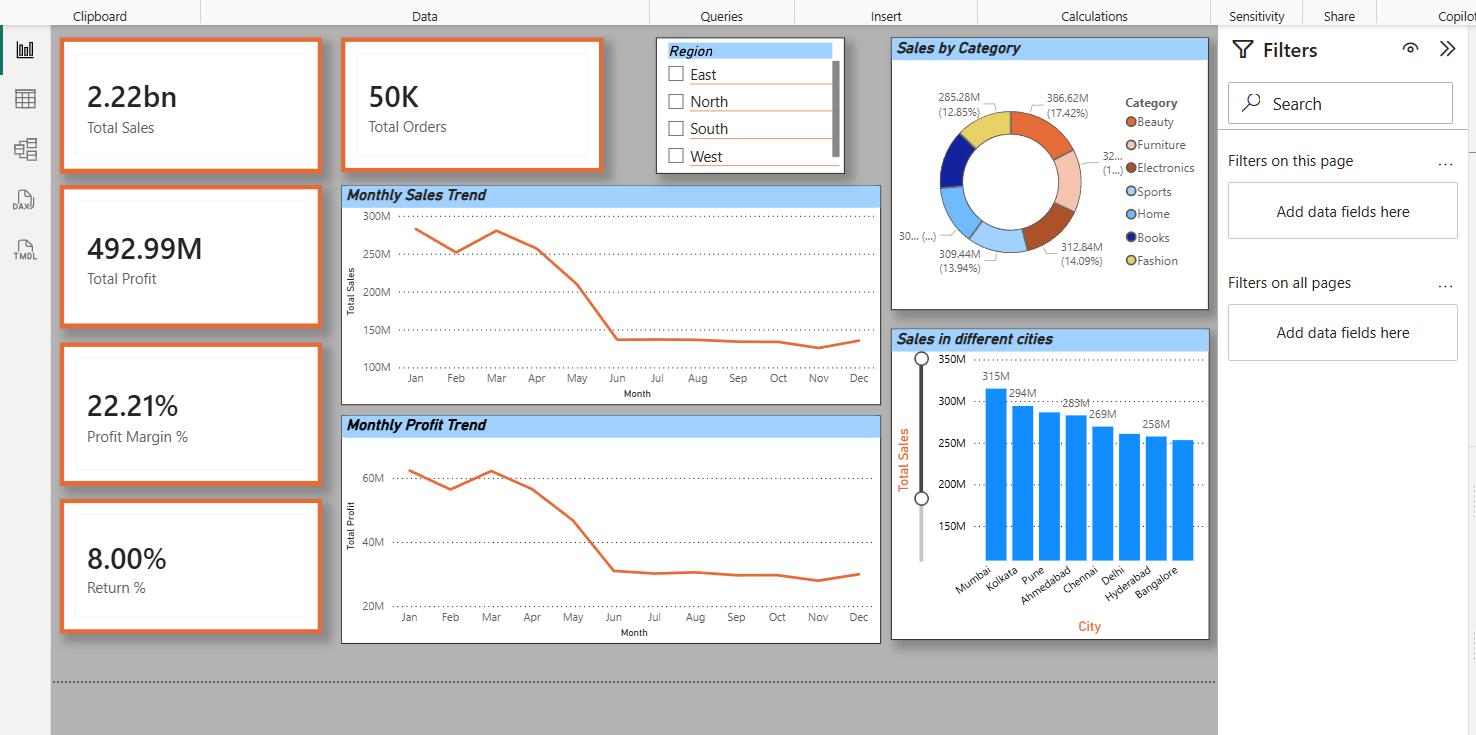

The dashboard page shown, as its layout file describes it:
{"tool":"powerbi","page":{"name":"EXECUTIVE SUMMARY","canvas":[1280,720],"ordinal":0},"visuals":[{"type":"cardVisual","fields":{"Data":["CUSTOMER.Total Sales"]},"box":[9.6,13.7,288.2,149.6],"z":0},{"type":"cardVisual","fields":{"Data":["CUSTOMER.Total Profit"]},"box":[9.6,175.6,288.2,157.8],"z":1000},{"type":"cardVisual","fields":{"Data":["CUSTOMER.Profit Margin %"]},"box":[9.6,348.5,288.2,157.8],"z":2000},{"type":"cardVisual","fields":{"Data":["CUSTOMER.Total Orders"]},"box":[318.4,13.7,288.2,148.2],"z":3000},{"type":"cardVisual","fields":{"Data":["CUSTOMER.Return %"]},"box":[9.6,520.1,288.2,148.2],"z":4000},{"type":"lineChart","title":"Monthly Sales Trend","fields":{"Y":["CUSTOMER.Total Sales"],"Category":["Date Table.Month"]},"box":[318.4,175.6,592.8,241.5],"z":5000},{"type":"lineChart","title":"Monthly Profit Trend","fields":{"Y":["CUSTOMER.Total Profit"],"Category":["Date Table.Month"]},"box":[318.4,428.1,592.8,251.1],"z":6000},{"type":"donutChart","title":"Sales by Category","fields":{"Category":["PRODUCT.Category"],"Y":["CUSTOMER.Total Sales"]},"box":[922.1,13.7,348.5,299.1],"z":7000},{"type":"columnChart","title":"Sales in different cities","fields":{"Category":["CUSTOMER.City"],"Y":["CUSTOMER.Total Sales"]},"box":[922.1,333.4,349.9,341.7],"z":8000},{"type":"slicer","fields":{"Values":["SALES.Region"]},"box":[664.2,13.7,207.2,149.6],"z":9000}]}

Visuals, with their boxes on the page's 1280x720 design canvas (x1, y1, x2, y2). These are canvas units, not pixel positions in the 1476x735 screenshot, which may show the page scaled, cropped or inside an application window:
cardVisual - CUSTOMER.Total Sales: rect(10, 14, 298, 163)
cardVisual - CUSTOMER.Total Profit: rect(10, 176, 298, 333)
cardVisual - CUSTOMER.Profit Margin %: rect(10, 348, 298, 506)
cardVisual - CUSTOMER.Total Orders: rect(318, 14, 607, 162)
cardVisual - CUSTOMER.Return %: rect(10, 520, 298, 668)
"Monthly Sales Trend" lineChart: rect(318, 176, 911, 417)
"Monthly Profit Trend" lineChart: rect(318, 428, 911, 679)
"Sales by Category" donutChart: rect(922, 14, 1271, 313)
"Sales in different cities" columnChart: rect(922, 333, 1272, 675)
slicer - SALES.Region: rect(664, 14, 871, 163)
